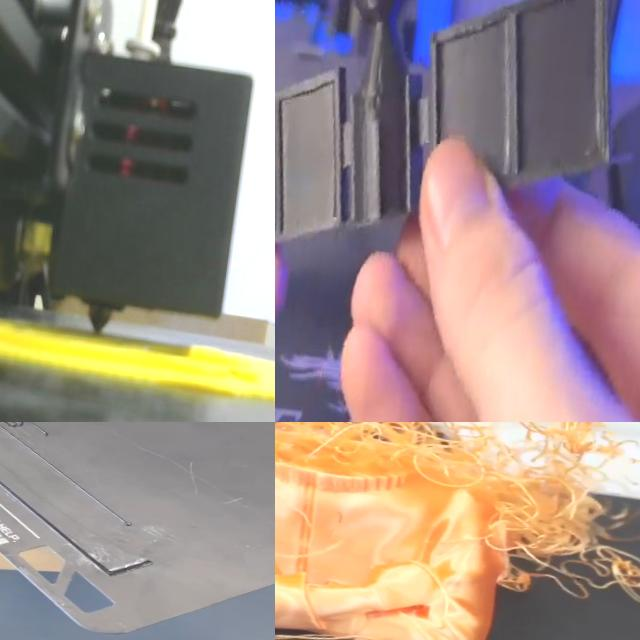spaghetti: (275, 422, 640, 604)
